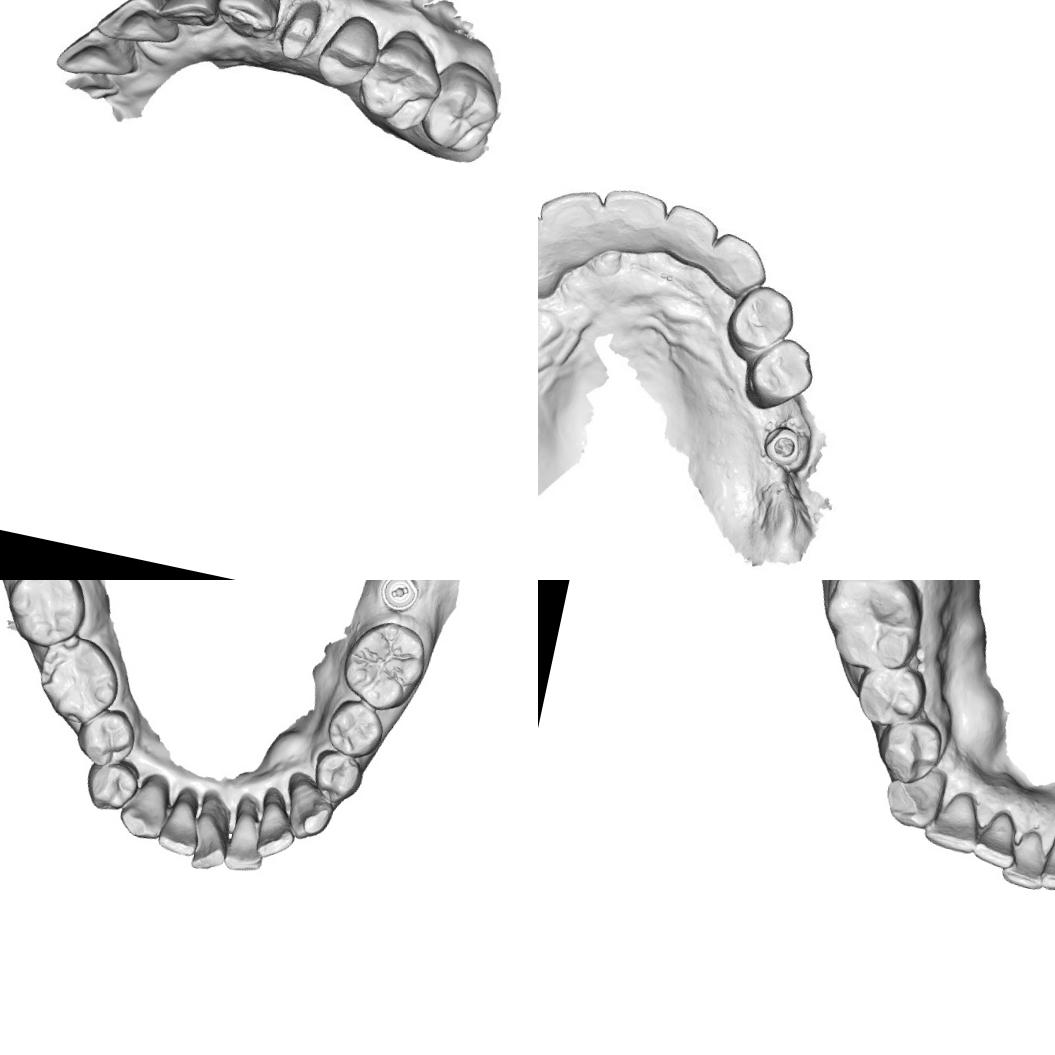canine: (699, 230, 772, 305), (113, 766, 176, 844), (277, 770, 342, 845), (879, 766, 947, 835), (214, 0, 287, 47)
crown: (276, 0, 328, 65)
implant: (757, 420, 809, 471)
implant_minus: (376, 580, 423, 616)
incisor: (594, 184, 680, 262), (538, 185, 613, 272), (54, 20, 144, 84), (221, 790, 276, 876), (923, 787, 987, 860), (184, 792, 238, 875), (658, 202, 722, 272), (154, 783, 211, 859), (251, 785, 305, 864), (97, 0, 183, 49), (999, 824, 1054, 893), (970, 805, 1025, 872), (538, 209, 567, 293), (159, 0, 227, 33), (1038, 825, 1055, 899)
molar: (813, 580, 931, 681), (335, 613, 433, 718), (29, 628, 124, 731), (360, 24, 448, 130), (421, 53, 504, 156), (0, 580, 95, 654)
premolar: (734, 326, 826, 422), (719, 279, 799, 372), (851, 657, 932, 735), (874, 713, 946, 790), (70, 700, 140, 773), (320, 17, 384, 92), (322, 694, 390, 763), (80, 752, 143, 816), (307, 746, 368, 809)
